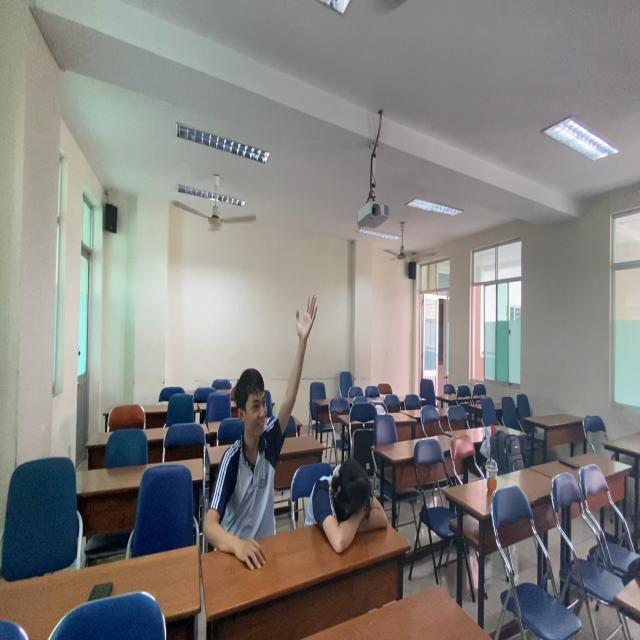raise_hand: (201, 291, 319, 556)
sleep: (308, 460, 393, 543)
